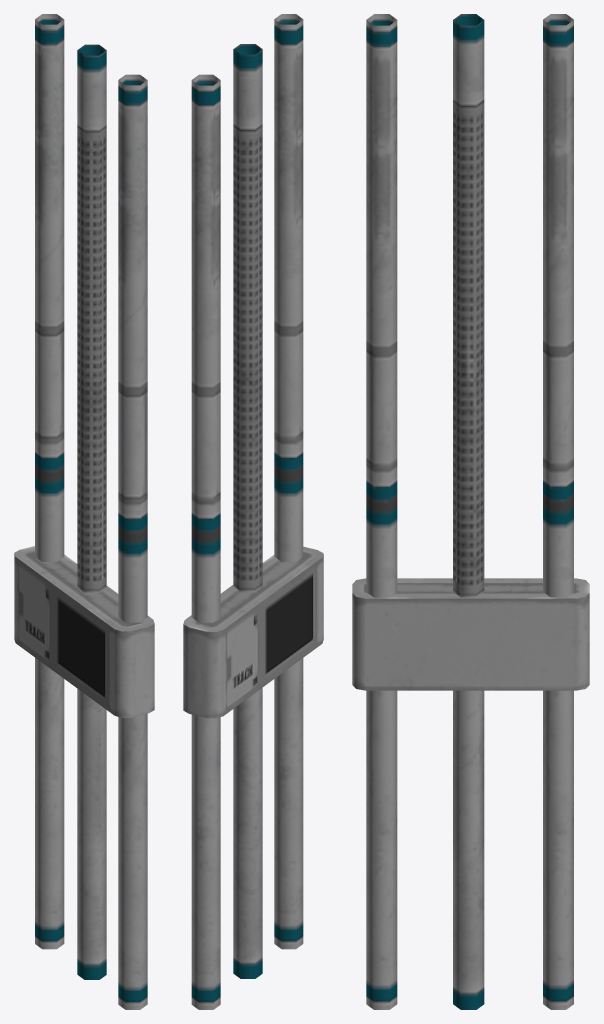
The model's file is CP_Pipe_A_2m_02.fbx.
The picture shows the model from 3 angles, left to right: view 1: azimuth 30°, elevation 25°; view 2: azimuth 150°, elevation 25°; view 3: azimuth 270°, elevation 25°; orthographic projection. The views are drawn at different scales.
Parts seen in each view (by area): view 1: CP_Pipe_A_2m_02; view 2: CP_Pipe_A_2m_02; view 3: CP_Pipe_A_2m_02.
Boxes of the visible parts, <box> form: CP_Pipe_A_2m_02: <box>14,14,154,1009</box>; CP_Pipe_A_2m_02: <box>183,14,323,1009</box>; CP_Pipe_A_2m_02: <box>352,14,589,1009</box>.
Bounding box in the file's own units: 8.82 × 200 × 43.66.
